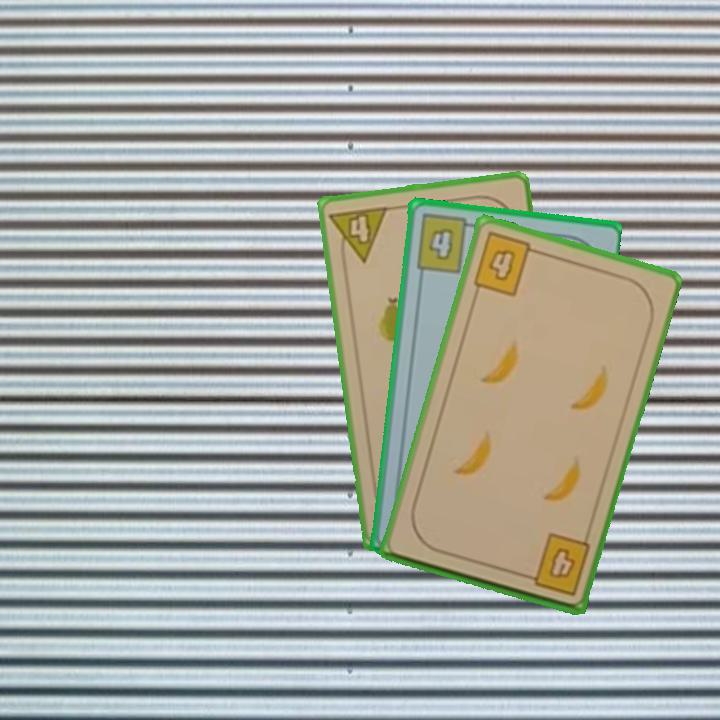4b: (518, 529, 594, 599), (469, 228, 543, 299), (412, 211, 480, 276)
4p: (326, 202, 391, 267)
